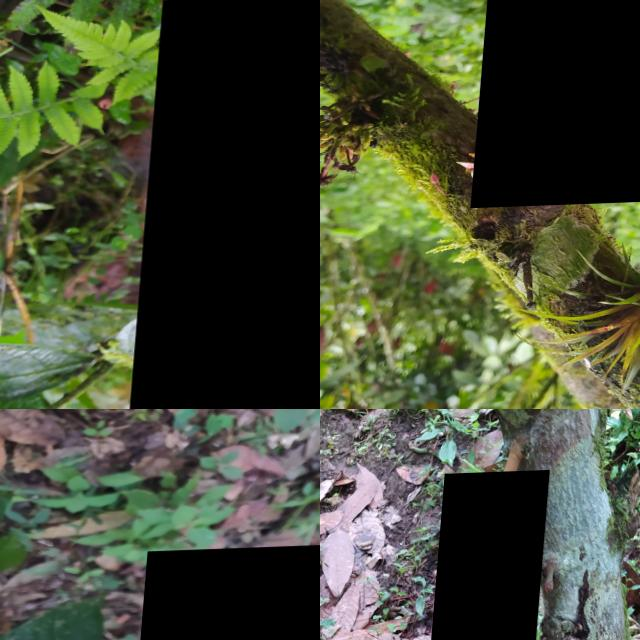Fitoftora: (135, 0, 320, 409), (477, 0, 640, 210)
Monilia: (122, 544, 320, 640)
Sana: (426, 473, 551, 640)
